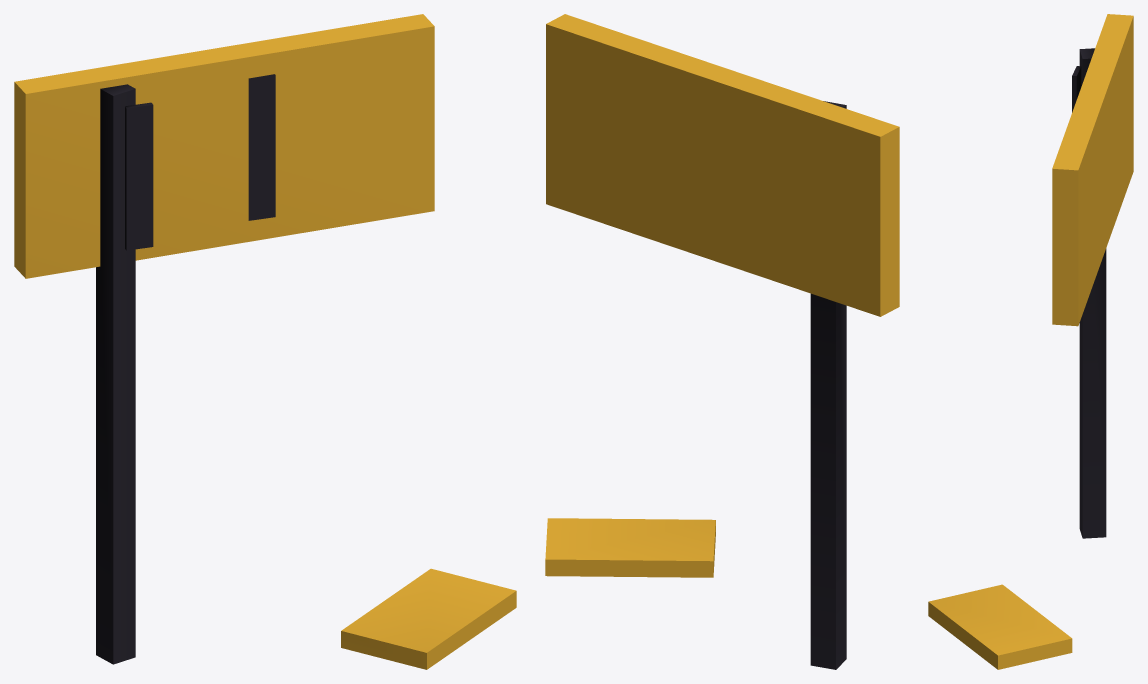
The picture shows the model from 3 angles, left to right: view 1: azimuth 30°, elevation 25°; view 2: azimuth 150°, elevation 25°; view 3: azimuth 270°, elevation 25°; orthographic projection. The views are drawn at different scales.
Visible parts, largest first — view 1: body_pal_schoolBusYellow, body_pal_uiDark; view 2: body_pal_schoolBusYellow, body_pal_uiDark; view 3: body_pal_schoolBusYellow, body_pal_uiDark.
Part boxes in pixels (box(x1,y1,x2,y2)): body_pal_schoolBusYellow: box(14, 14, 516, 669); body_pal_uiDark: box(96, 74, 275, 664); body_pal_schoolBusYellow: box(545, 14, 899, 577); body_pal_uiDark: box(810, 101, 846, 669); body_pal_schoolBusYellow: box(928, 14, 1133, 669); body_pal_uiDark: box(1072, 48, 1106, 538).
Size of the model in its own units: 1.57 by 2.03 by 0.7763.
